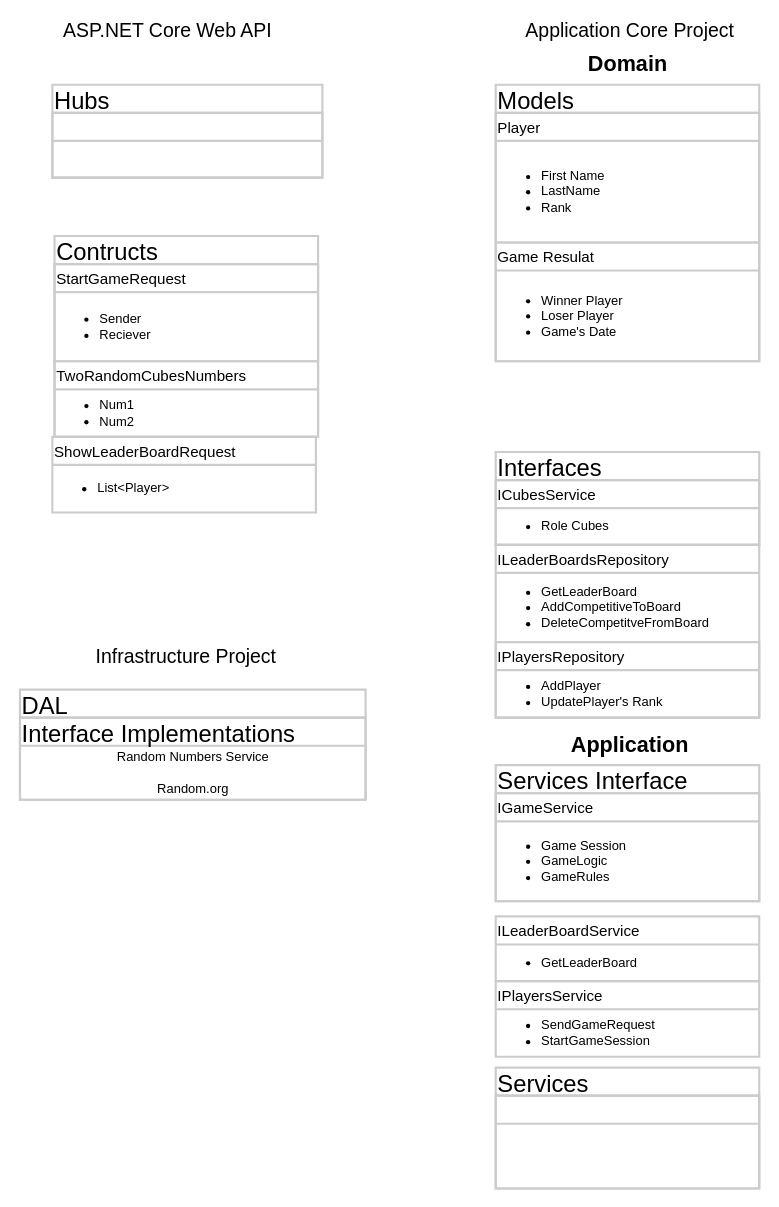
The diagram is 779 pixels wide and 1207 high, and some of its shapes have lost their labels. Here are the shapes that lost their labels. From the top down, the centre of each, then its label:
(x=187, y=144): SignalR
(x=627, y=1141): Interface Implementation
